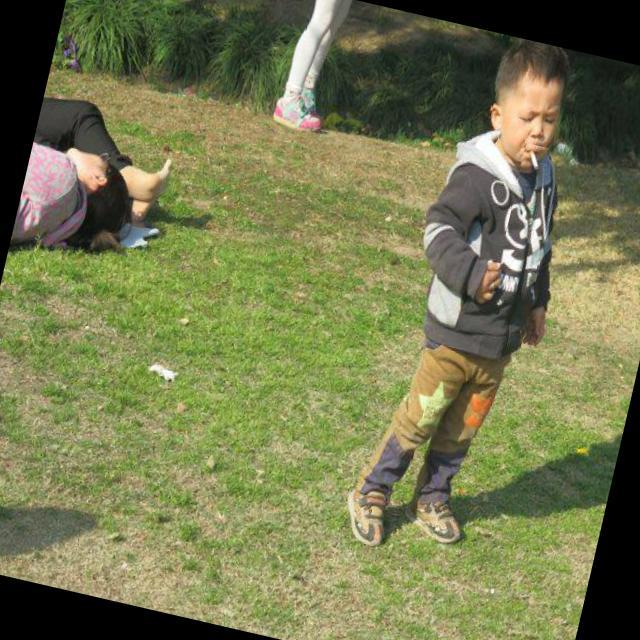cigarette: (516, 143, 550, 186)
